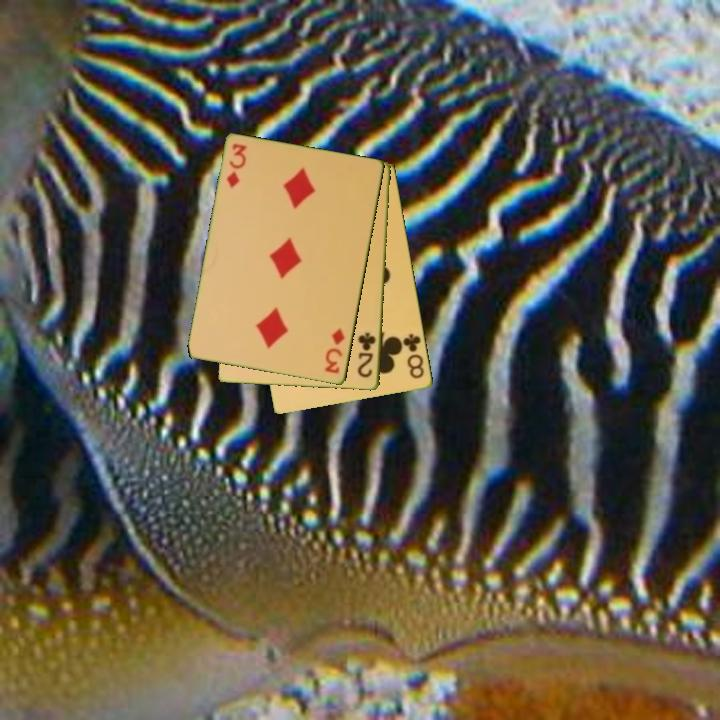2c: (354, 329, 379, 381)
3d: (223, 140, 250, 191), (322, 325, 348, 377)
8c: (400, 330, 427, 382)
